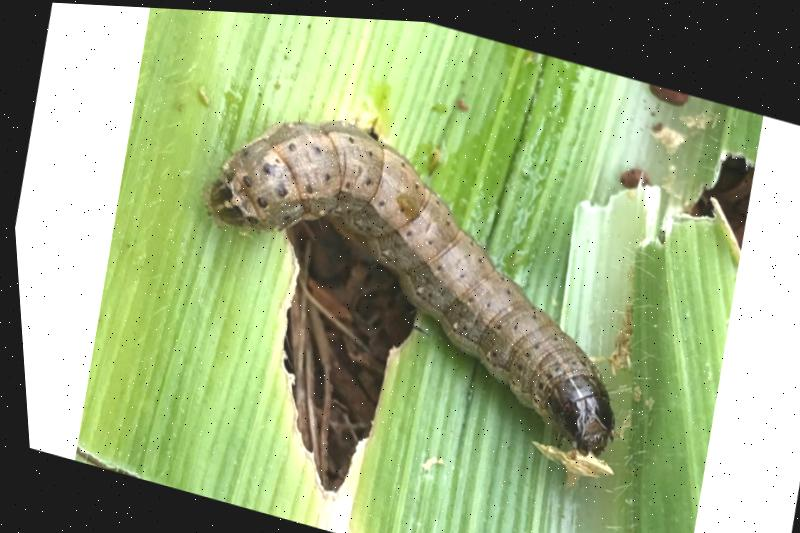fall-armyworm: (205, 119, 611, 452)
